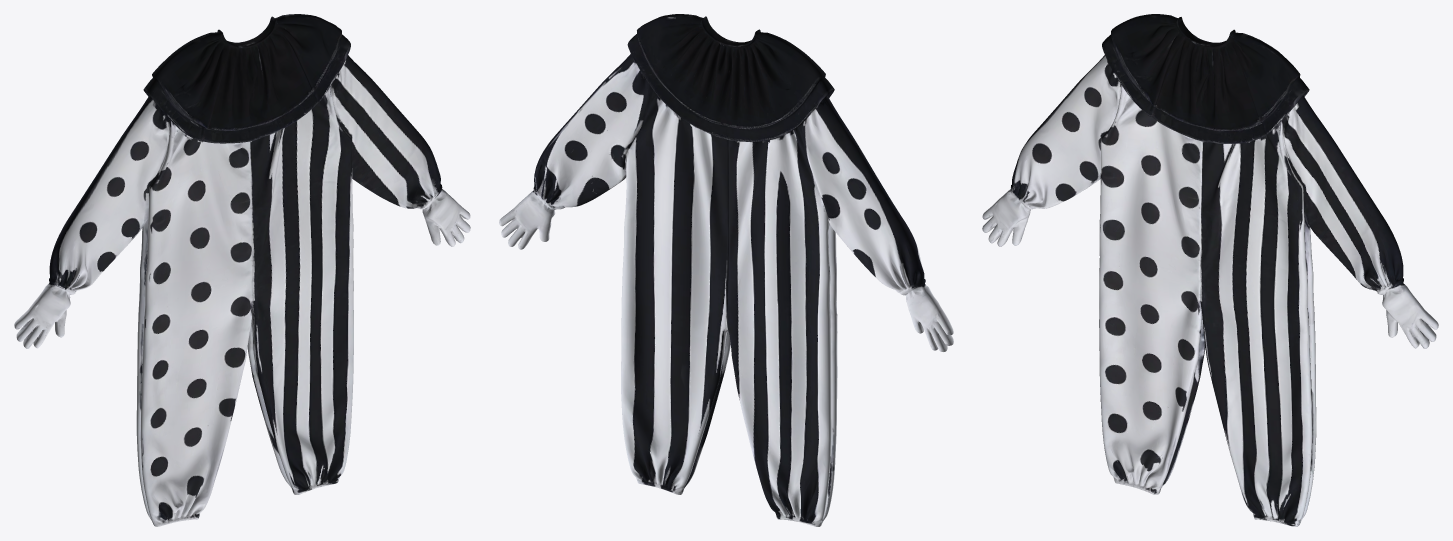
File: clown.glb
3 views of the same model, side by side, from view 1: azimuth 30°, elevation 25°; view 2: azimuth 150°, elevation 25°; view 3: azimuth 330°, elevation 25° (orthographic).
Visible parts, largest first — view 1: node_0; view 2: node_0; view 3: node_0.
Boxes of the visible parts, x1=… form: node_0: x1=14, y1=14, x2=470, y2=526; node_0: x1=499, y1=14, x2=953, y2=526; node_0: x1=982, y1=14, x2=1438, y2=526.
Size of the model in its own units: 111 by 112 by 6.23.
Materials: 1 (1 with a texture image).
